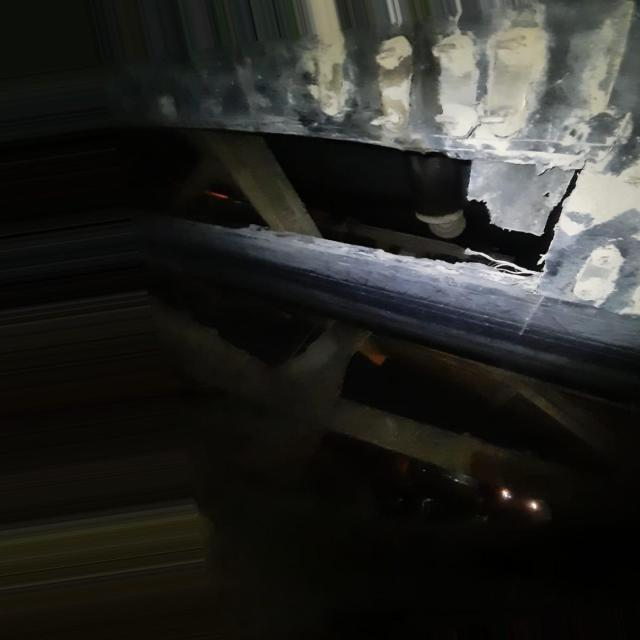Hole: (138, 123, 580, 274)
